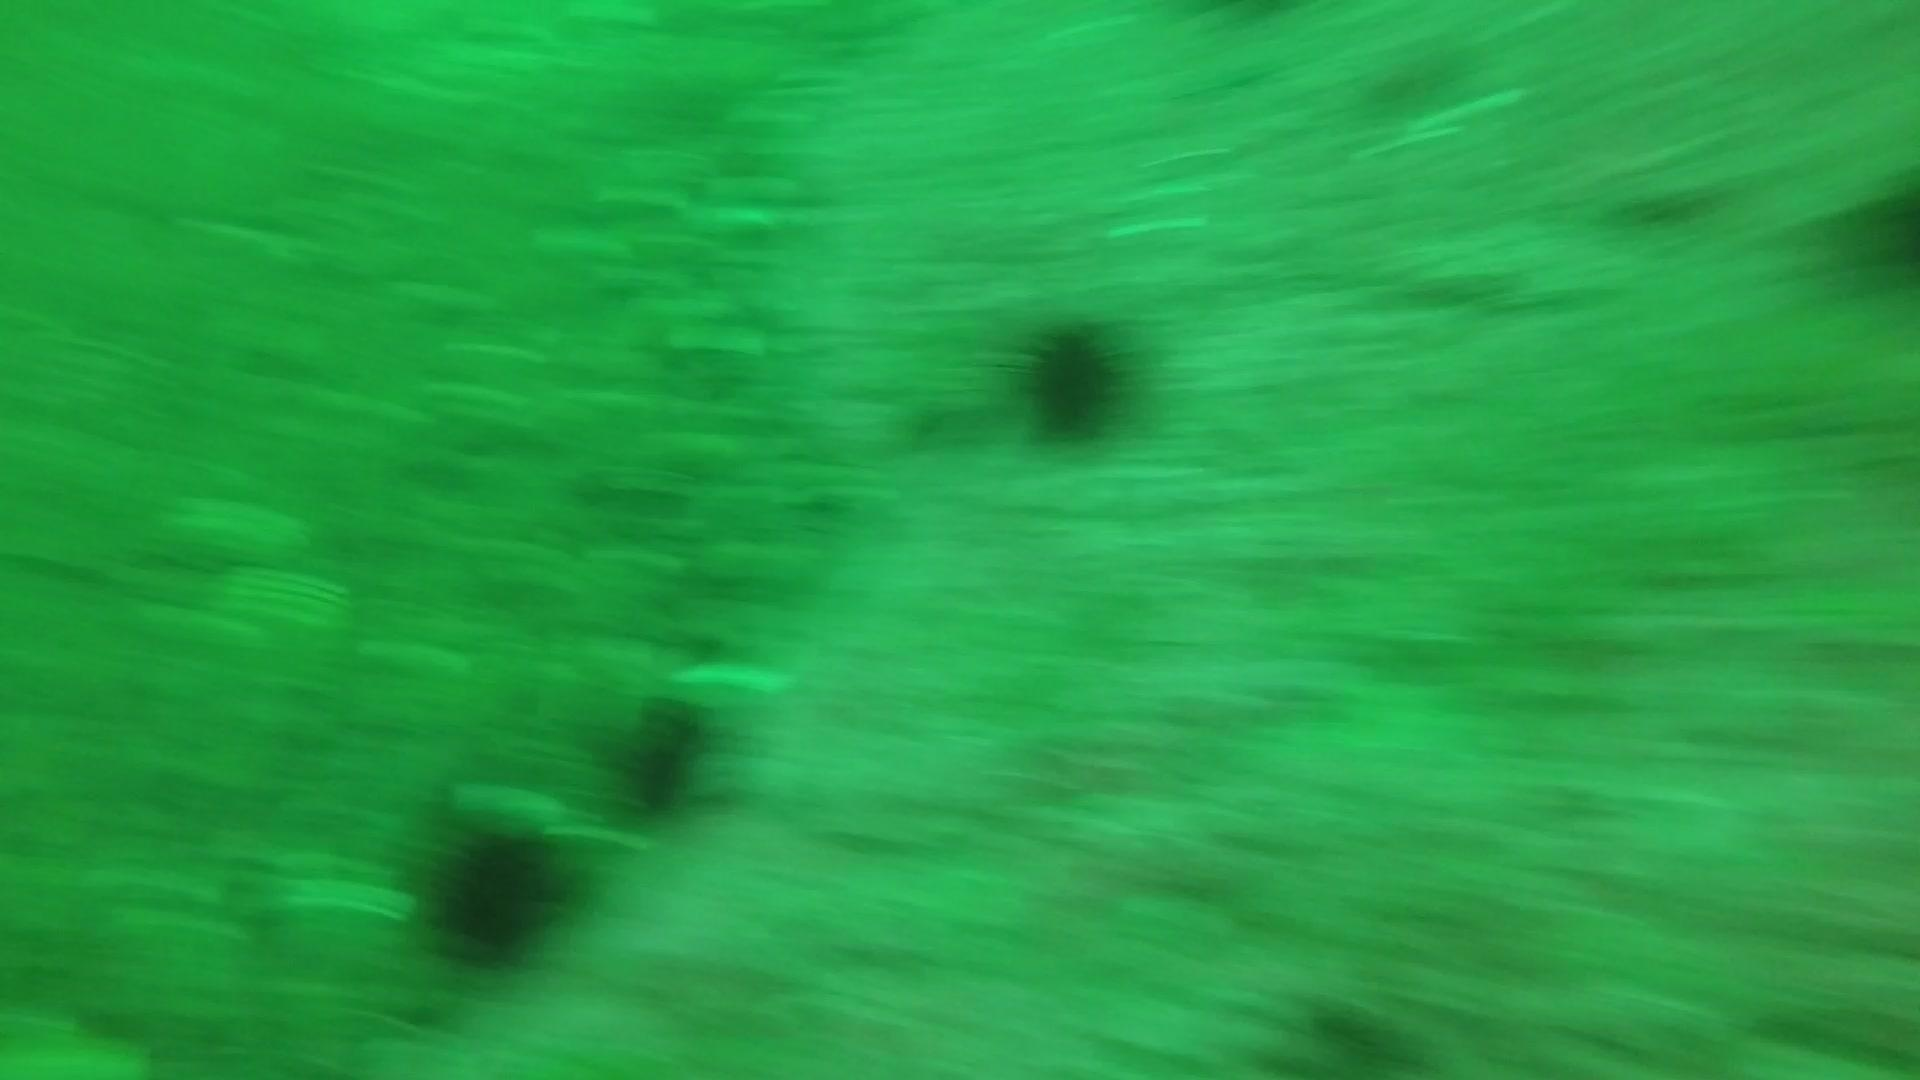echinus: (414, 814, 579, 975), (1009, 311, 1139, 450), (603, 694, 720, 829), (1811, 169, 1920, 305)
